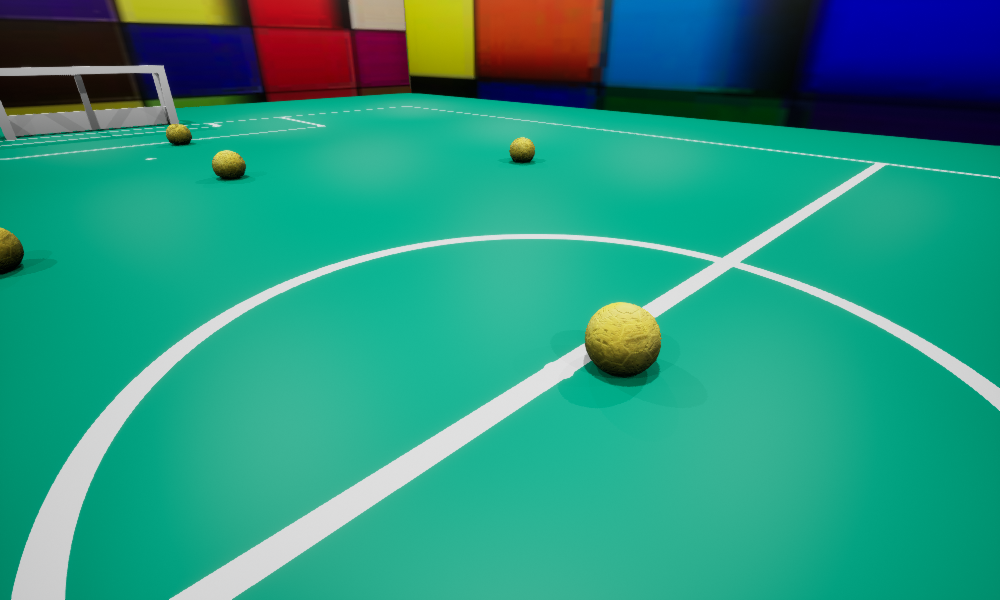b: (585, 302, 661, 375), (0, 227, 23, 271), (212, 150, 245, 179), (509, 137, 534, 162), (166, 123, 191, 143)
g: (0, 65, 178, 139)
